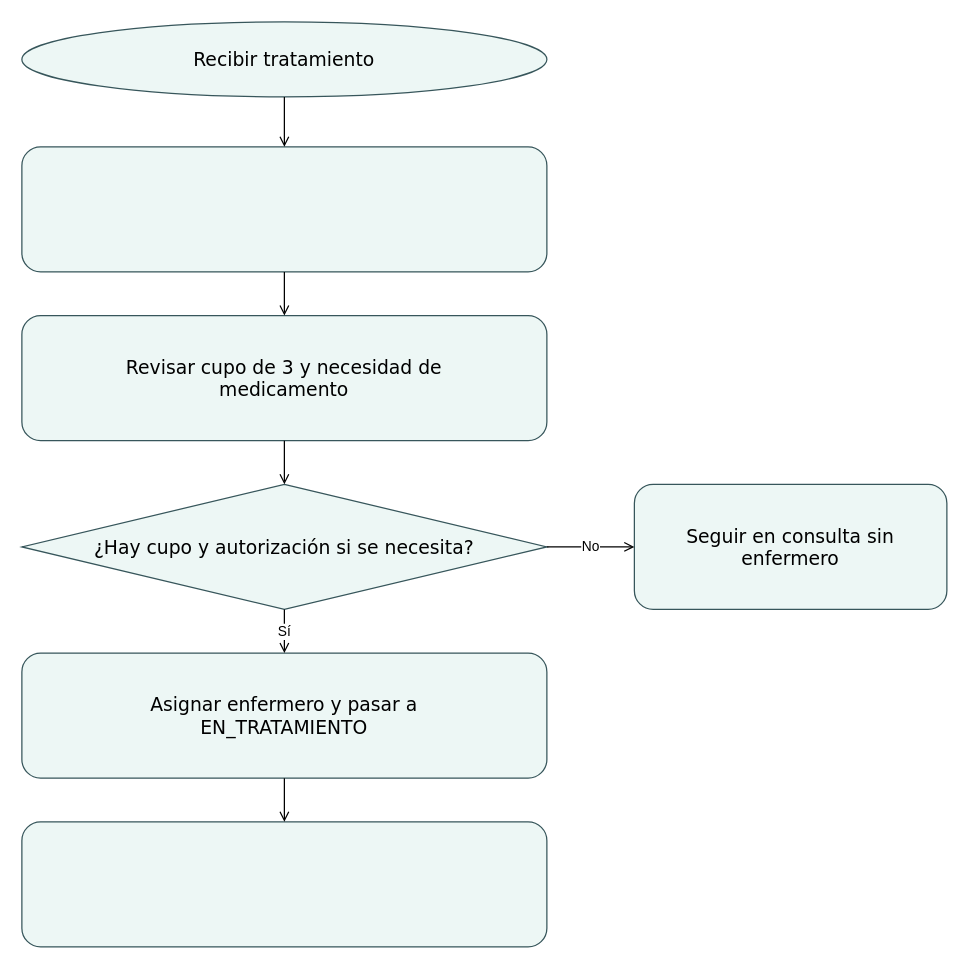
This 969x969 diagram has some shape labels left out. The shapes that lost their labels are listed below. From the top down, each one's box as (x1, y1, x2, y2) in pixels, then its label:
(21, 146, 547, 272): Comprobar hospital, especialidad y consulta activa
(21, 821, 547, 947): Guardar tratamiento; conservar turno del enfermero
